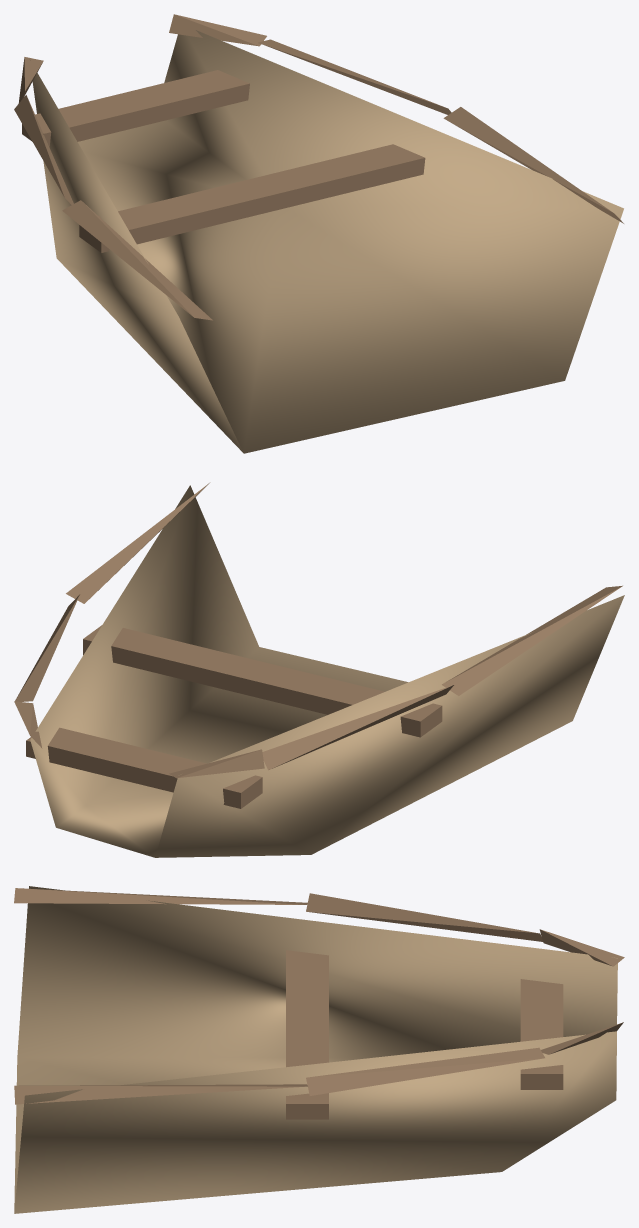
File: boats.wreck_stern.lod2.glb
3 renders of one model, top to bottom at view 1: azimuth 30°, elevation 25°; view 2: azimuth 150°, elevation 25°; view 3: azimuth 270°, elevation 25°, orthographic. The views are drawn at different scales.
Visible parts, largest first — view 1: Hull, Seat, Seat.001, Gunwale, Gunwale.001, Gunwale.003, Gunwale.005, Gunwale.002; view 2: Hull, Seat, Seat.001, Gunwale, Gunwale.002, Gunwale.001, Gunwale.003, Gunwale.004, Gunwale.005; view 3: Hull, Seat, Gunwale.003, Seat.001, Gunwale.002, Gunwale.001, Gunwale, Gunwale.004, Gunwale.005.
Boxes of the visible parts, bbox=[...] form: Hull: bbox=[30, 30, 623, 453]; Seat: bbox=[79, 144, 425, 252]; Seat.001: bbox=[22, 70, 249, 147]; Gunwale: bbox=[62, 200, 212, 320]; Gunwale.001: bbox=[443, 107, 623, 223]; Gunwale.003: bbox=[258, 39, 451, 114]; Gunwale.005: bbox=[169, 14, 266, 46]; Gunwale.002: bbox=[14, 95, 73, 204]; Hull: bbox=[30, 485, 624, 857]; Seat: bbox=[83, 625, 442, 737]; Seat.001: bbox=[26, 727, 262, 808]; Gunwale: bbox=[442, 585, 622, 695]; Gunwale.002: bbox=[262, 685, 453, 770]; Gunwale.001: bbox=[66, 482, 210, 603]; Gunwale.003: bbox=[15, 594, 79, 701]; Gunwale.004: bbox=[169, 749, 264, 778]; Gunwale.005: bbox=[14, 701, 42, 748]; Hull: bbox=[14, 886, 617, 1213]; Seat: bbox=[286, 950, 328, 1119]; Gunwale.003: bbox=[306, 1047, 544, 1095]; Seat.001: bbox=[520, 979, 563, 1089]; Gunwale.002: bbox=[306, 893, 542, 941]; Gunwale.001: bbox=[14, 1084, 307, 1104]; Gunwale: bbox=[14, 888, 307, 904]; Gunwale.004: bbox=[539, 929, 624, 966]; Gunwale.005: bbox=[541, 1022, 623, 1054].
Bounding box in the file's own units: 2.56 × 0.878 × 3.13.
